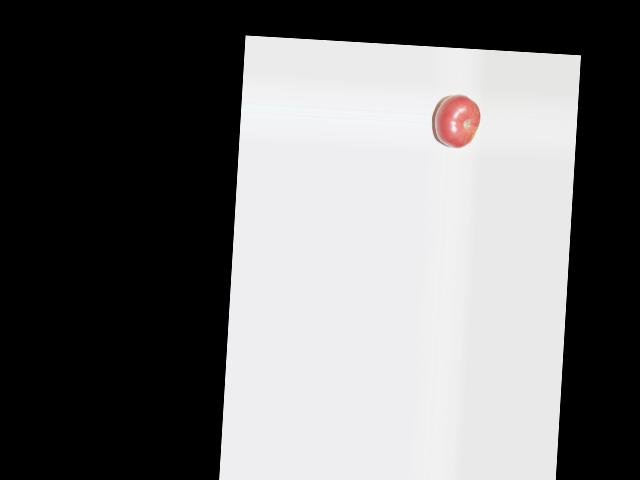tomato: (434, 92, 481, 149)
